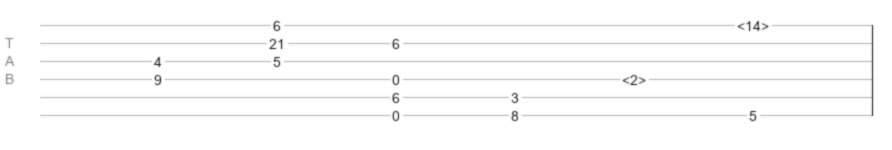0: (392, 108, 400, 118), (392, 72, 400, 82)
21: (269, 36, 285, 46)
3: (511, 90, 519, 100)
4: (154, 54, 162, 64)
5: (273, 54, 281, 64), (749, 108, 757, 118)
6: (273, 18, 281, 28), (392, 90, 400, 100), (392, 36, 400, 46)
8: (511, 108, 519, 118)
9: (154, 72, 162, 82)
harmonic: (737, 18, 769, 28), (622, 72, 646, 82)
